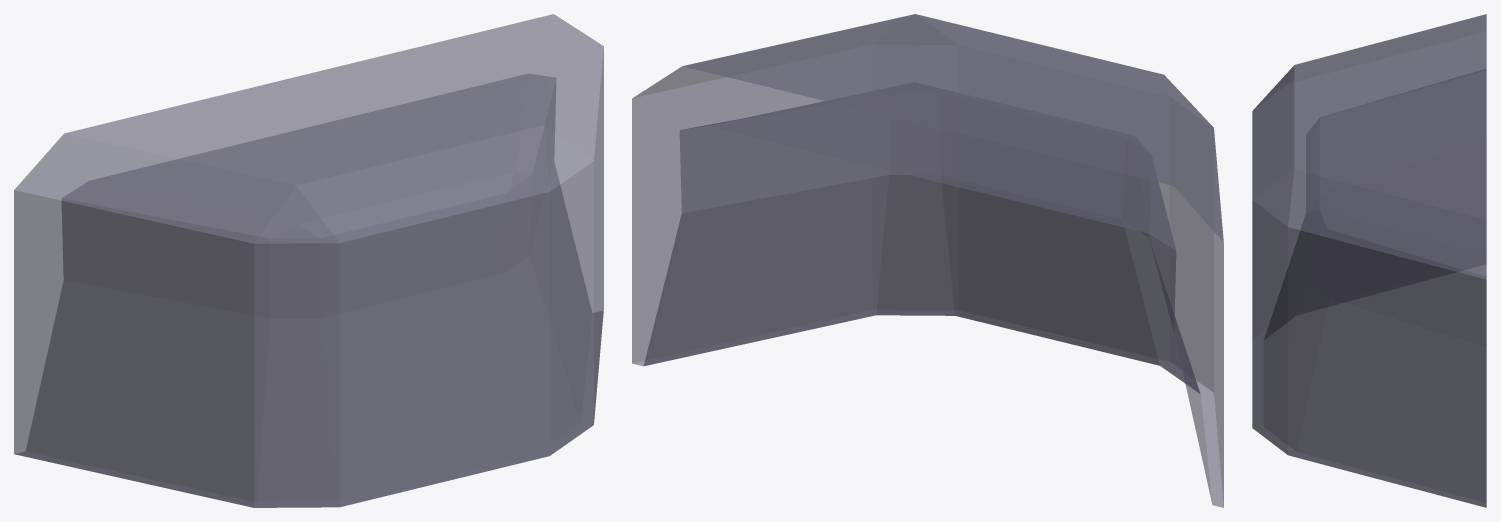
File: wallLight_01.glb
The picture shows the model from 3 angles, left to right: view 1: azimuth 30°, elevation 25°; view 2: azimuth 150°, elevation 25°; view 3: azimuth 270°, elevation 25°; orthographic projection. The views are drawn at different scales.
Visible parts, largest first — view 1: wallLight_01; view 2: wallLight_01; view 3: wallLight_01.
Boxes of the visible parts, x1,y1,x2,y2 form: wallLight_01: (14,14,603,507); wallLight_01: (632,14,1223,507); wallLight_01: (1252,14,1486,507).
Size of the model in its own units: 0.8 by 0.4 by 0.3192.
